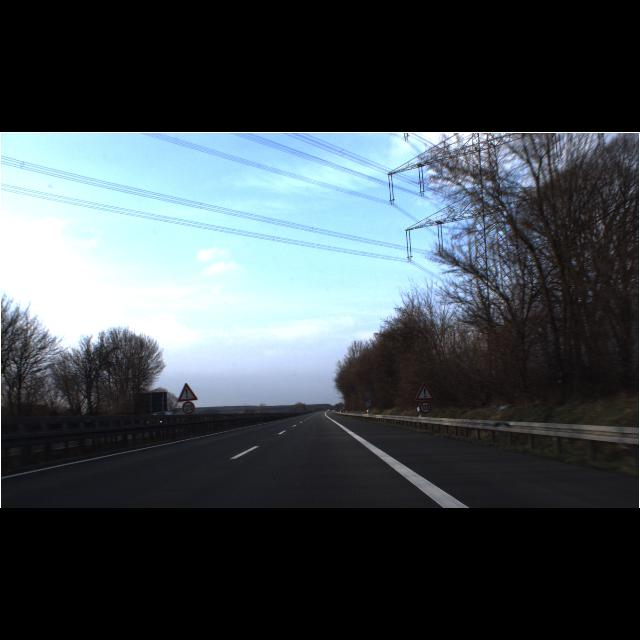danger: (176, 382, 198, 402), (414, 382, 436, 401)
prohibitory: (418, 402, 432, 414), (182, 402, 194, 414)
